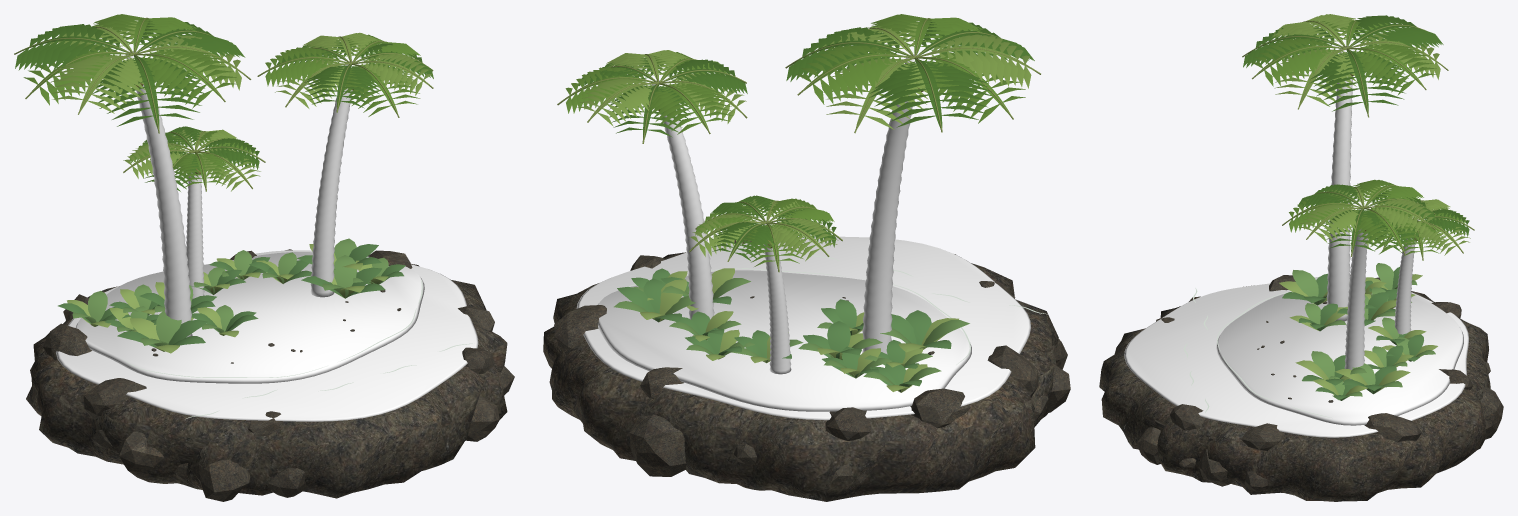
The model's file is jungle-island-v6.glb.
3 renders of one model, left to right at view 1: azimuth 30°, elevation 25°; view 2: azimuth 150°, elevation 25°; view 3: azimuth 270°, elevation 25°, orthographic. The views are drawn at different scales.
Parts seen in each view (by area): view 1: Jungle | Rock | warm charcoal, Jungle | Sand | warm ivory, Jungle | Water | quiet lagoon, Jungle | Palm | island green, Jungle | Palm | deep olive, Jungle | Palm | warm coconut bark, Jungle | Palm | sunlit olive, Jungle | Understory | deep green, Jungle | Understory | leaf green, Jungle | Palm | leaf midribs, Jungle | Understory | young green, Jungle | Water | sea foam; view 2: Jungle | Rock | warm charcoal, Jungle | Sand | warm ivory, Jungle | Water | quiet lagoon, Jungle | Palm | deep olive, Jungle | Palm | island green, Jungle | Palm | sunlit olive, Jungle | Palm | warm coconut bark, Jungle | Understory | deep green, Jungle | Understory | young green, Jungle | Palm | leaf midribs, Jungle | Understory | leaf green; view 3: Jungle | Rock | warm charcoal, Jungle | Sand | warm ivory, Jungle | Water | quiet lagoon, Jungle | Palm | deep olive, Jungle | Palm | island green, Jungle | Palm | sunlit olive, Jungle | Palm | warm coconut bark, Jungle | Understory | deep green, Jungle | Understory | leaf green, Jungle | Understory | young green, Jungle | Palm | leaf midribs.
Boxes of the visible parts, left/top/right/bottom form: Jungle | Rock | warm charcoal: left=26, top=249, right=514, bottom=501; Jungle | Sand | warm ivory: left=75, top=252, right=424, bottom=383; Jungle | Water | quiet lagoon: left=56, top=250, right=478, bottom=421; Jungle | Palm | island green: left=23, top=14, right=420, bottom=187; Jungle | Palm | deep olive: left=15, top=20, right=433, bottom=191; Jungle | Palm | warm coconut bark: left=126, top=51, right=358, bottom=337; Jungle | Palm | sunlit olive: left=50, top=22, right=432, bottom=191; Jungle | Understory | deep green: left=58, top=244, right=405, bottom=347; Jungle | Understory | leaf green: left=72, top=238, right=388, bottom=351; Jungle | Palm | leaf midribs: left=14, top=17, right=433, bottom=191; Jungle | Understory | young green: left=67, top=244, right=388, bottom=353; Jungle | Water | sea foam: left=122, top=280, right=472, bottom=419; Jungle | Rock | warm charcoal: left=543, top=240, right=1070, bottom=501; Jungle | Sand | warm ivory: left=598, top=270, right=971, bottom=411; Jungle | Water | quiet lagoon: left=576, top=236, right=1030, bottom=420; Jungle | Palm | deep olive: left=578, top=21, right=1034, bottom=261; Jungle | Palm | island green: left=562, top=14, right=1025, bottom=266; Jungle | Palm | sunlit olive: left=576, top=23, right=1035, bottom=261; Jungle | Palm | warm coconut bark: left=651, top=54, right=923, bottom=374; Jungle | Understory | deep green: left=617, top=268, right=951, bottom=391; Jungle | Understory | young green: left=640, top=268, right=958, bottom=392; Jungle | Palm | leaf midribs: left=557, top=18, right=1040, bottom=272; Jungle | Understory | leaf green: left=614, top=278, right=969, bottom=386; Jungle | Rock | warm charcoal: left=1099, top=274, right=1503, bottom=501; Jungle | Sand | warm ivory: left=1216, top=293, right=1463, bottom=425; Jungle | Water | quiet lagoon: left=1124, top=276, right=1468, bottom=437; Jungle | Palm | deep olive: left=1243, top=15, right=1469, bottom=252; Jungle | Palm | island green: left=1250, top=20, right=1465, bottom=256; Jungle | Palm | sunlit olive: left=1271, top=14, right=1470, bottom=255; Jungle | Palm | warm coconut bark: left=1326, top=46, right=1415, bottom=379; Jungle | Understory | deep green: left=1282, top=267, right=1423, bottom=400; Jungle | Understory | leaf green: left=1292, top=263, right=1435, bottom=400; Jungle | Understory | young green: left=1279, top=274, right=1437, bottom=397; Jungle | Palm | leaf midribs: left=1242, top=20, right=1474, bottom=260.
Bounding box in the file's own units: 1.66 × 1.4 × 1.52.
13 materials, 1 textured.
